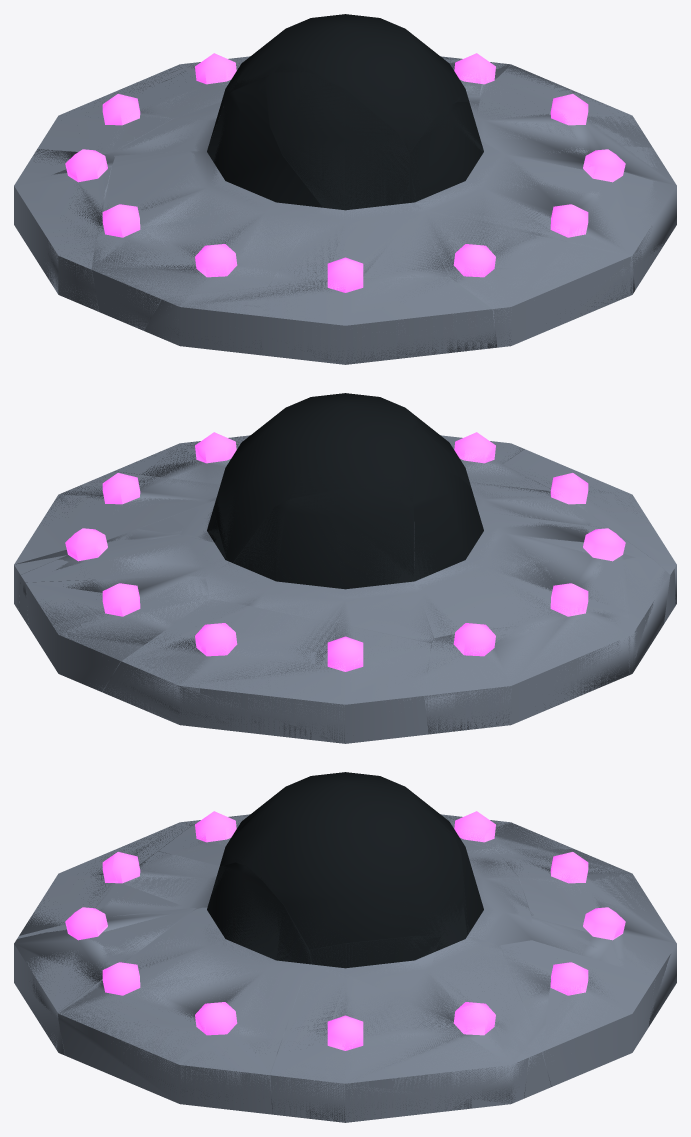
File: space_ship.glb
3 renders of one model, top to bottom at view 1: azimuth 30°, elevation 25°; view 2: azimuth 150°, elevation 25°; view 3: azimuth 270°, elevation 25°, orthographic.
Visible parts, largest first — view 1: UFO, UFO_cell.002_cell.001, UFO_cell.004, UFO_cell.002_cell, UFO_cell.009_cell.001, UFO_cell.009_cell, UFO_cell.008, UFO_cell.006, UFO_cell.003, UFO_cell.001, UFO_cell.005, UFO_cell.007_cell.001; view 2: UFO, UFO_cell.003, UFO_cell.005, UFO_cell.002_cell.001, UFO_cell.008, UFO_cell.006, UFO_cell, UFO_cell.001, UFO_cell.007_cell.001, UFO_cell.004, UFO_cell.002_cell, UFO_cell.009_cell.001 (+2 smaller); view 3: UFO, UFO_cell.009_cell.001, UFO_cell.008, UFO_cell.001, UFO_cell, UFO_cell.007_cell.001, UFO_cell.009_cell, UFO_cell.003, UFO_cell.004, UFO_cell.007_cell, UFO_cell.002_cell, UFO_cell.005 (+2 smaller).
Boxes of the visible parts, x1,y1,x2,y2 form: UFO: (31, 15, 676, 364); UFO_cell.002_cell.001: (92, 76, 322, 330); UFO_cell.004: (144, 263, 496, 364); UFO_cell.002_cell: (267, 74, 447, 286); UFO_cell.009_cell.001: (409, 101, 665, 290); UFO_cell.009_cell: (413, 208, 633, 347); UFO_cell.008: (236, 14, 465, 152); UFO_cell.006: (14, 149, 114, 311); UFO_cell.003: (37, 53, 249, 154); UFO_cell.001: (475, 57, 644, 146); UFO_cell.005: (115, 48, 260, 153); UFO_cell.007_cell.001: (451, 53, 481, 95); UFO: (16, 400, 676, 742); UFO_cell.003: (103, 598, 431, 743); UFO_cell.005: (206, 488, 433, 642); UFO_cell.002_cell.001: (413, 460, 665, 638); UFO_cell.008: (213, 393, 417, 563); UFO_cell.006: (424, 615, 645, 733); UFO_cell: (25, 577, 209, 691); UFO_cell.001: (14, 471, 220, 610); UFO_cell.007_cell.001: (18, 528, 228, 626); UFO_cell.004: (503, 449, 676, 623); UFO_cell.002_cell: (416, 416, 609, 528); UFO_cell.009_cell.001: (114, 432, 249, 480); UFO: (14, 781, 676, 1122); UFO_cell.009_cell.001: (58, 862, 308, 1114); UFO_cell.008: (220, 772, 469, 949); UFO_cell.001: (270, 951, 528, 1122); UFO_cell: (500, 940, 655, 1086); UFO_cell.007_cell.001: (420, 937, 551, 1098); UFO_cell.009_cell: (14, 907, 196, 1055); UFO_cell.003: (496, 849, 670, 1020); UFO_cell.004: (27, 820, 200, 926); UFO_cell.007_cell: (310, 936, 440, 1001); UFO_cell.002_cell: (95, 807, 262, 910); UFO_cell.005: (440, 818, 531, 942).
Size of the model in its own units: 3.57 by 1.86 by 3.57.
